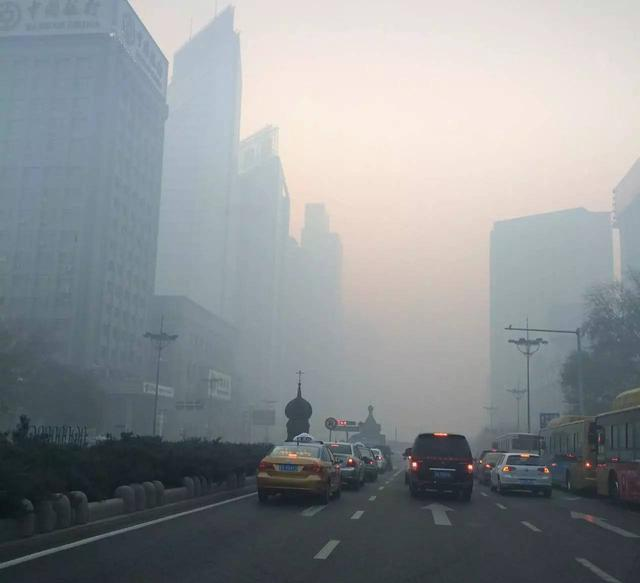bus: (586, 385, 640, 502), (535, 412, 605, 493), (490, 430, 545, 471)
car: (256, 431, 341, 499), (403, 429, 476, 501), (489, 451, 554, 494), (318, 437, 367, 491), (478, 449, 517, 485), (348, 444, 379, 480), (365, 445, 384, 473)
